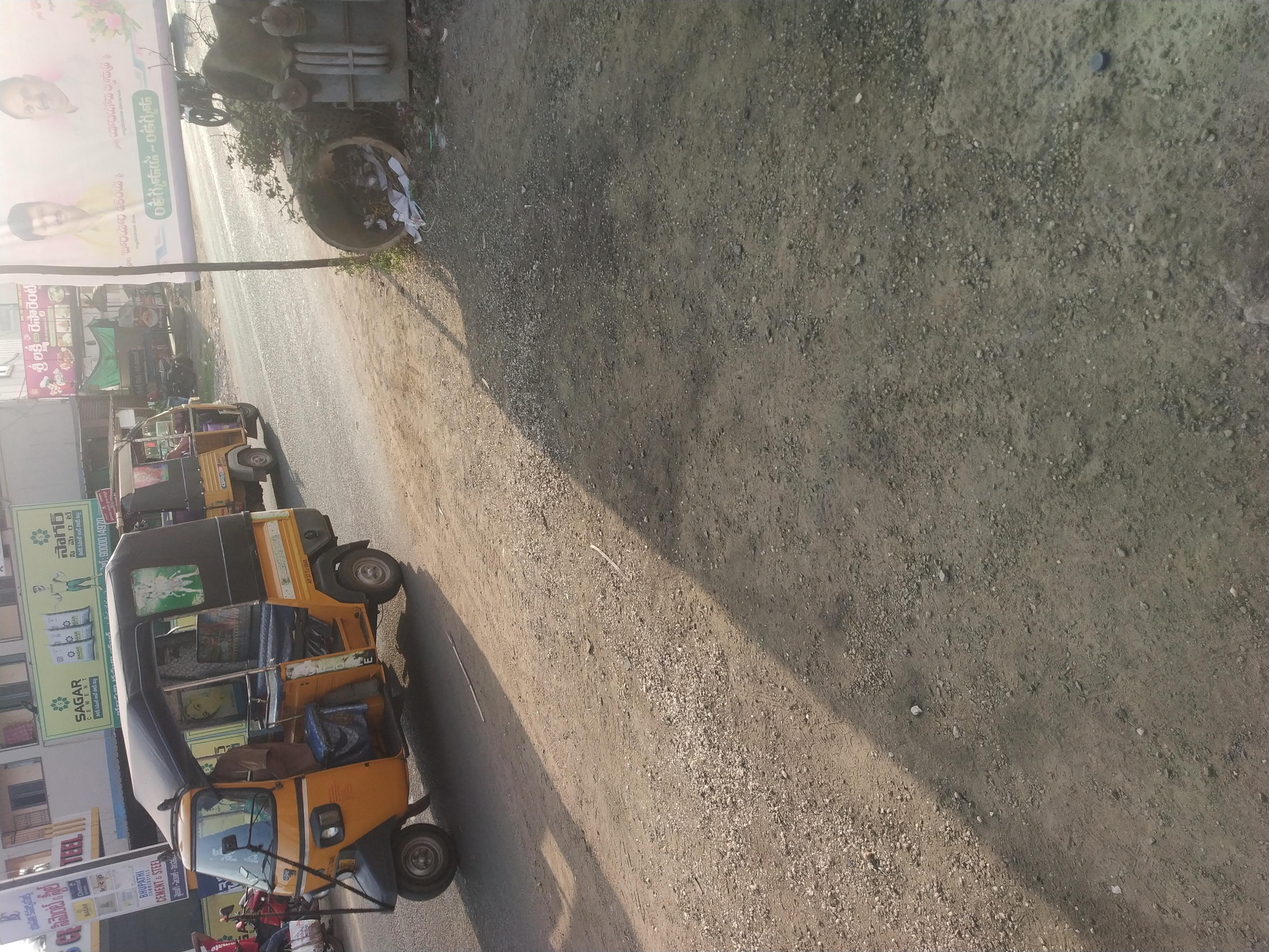Auto: (25, 83, 611, 351), (550, 52, 812, 226)
